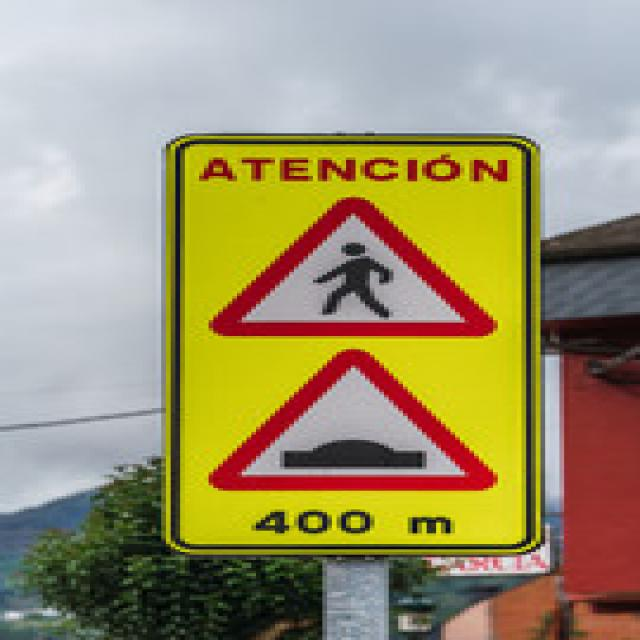hump: (205, 347, 502, 495)
